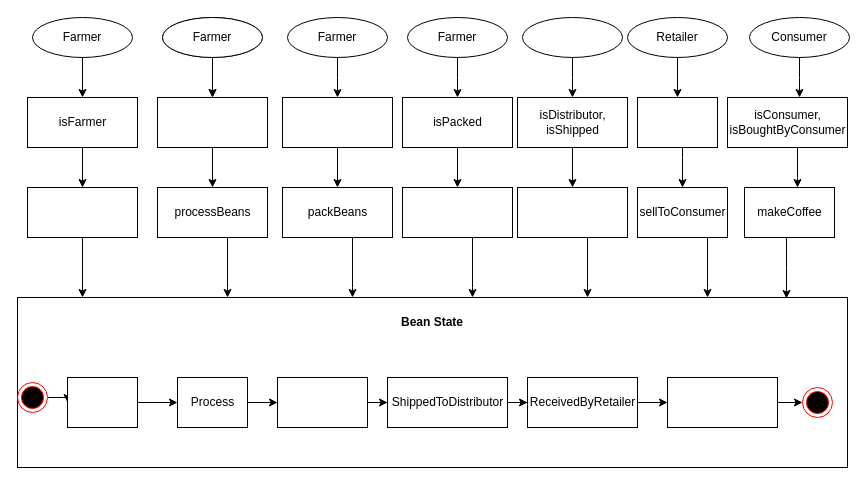
Some shapes in this 867 by 485 pixel diagram are drawn without their labels. The centre of each missing label's shape, as x and y in pixels:
BoughtByConsumer: (722,402)
distributeToRetailer: (572,212)
Distributor: (572,37)
Harvest: (102,402)
harvestBeans: (82,212)
isHarvested: (212,122)
isProcessed: (337,122)
isRetailer, isReceived: (677,122)
Pack: (322,402)
shipToDistributor: (457,212)
